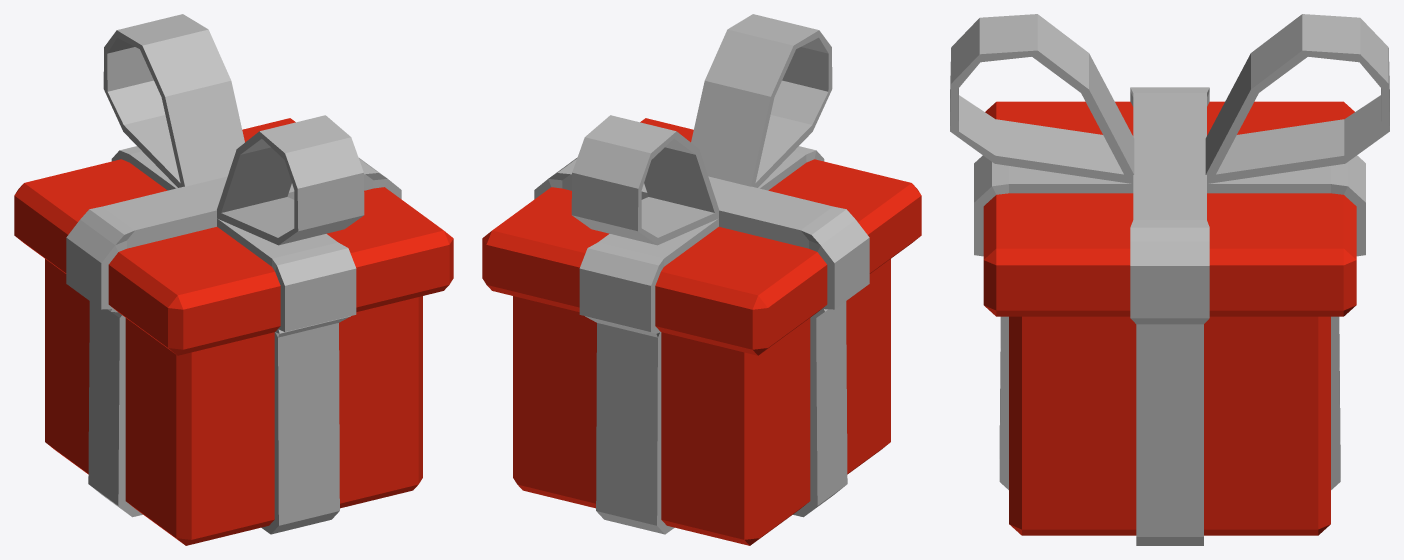
Rendered from Small Gift.fbx.
3 renders of one model, left to right at view 1: azimuth 30°, elevation 25°; view 2: azimuth 150°, elevation 25°; view 3: azimuth 270°, elevation 25°, orthographic. The views are drawn at different scales.
Visible parts, largest first — view 1: Cube; view 2: Cube; view 3: Cube.
Boxes of the visible parts, left/top/right/bottom form: Cube: left=14, top=14, right=453, bottom=545; Cube: left=482, top=14, right=921, bottom=545; Cube: left=950, top=14, right=1389, bottom=545.
Size of the model in its own units: 243 by 309 by 273.
